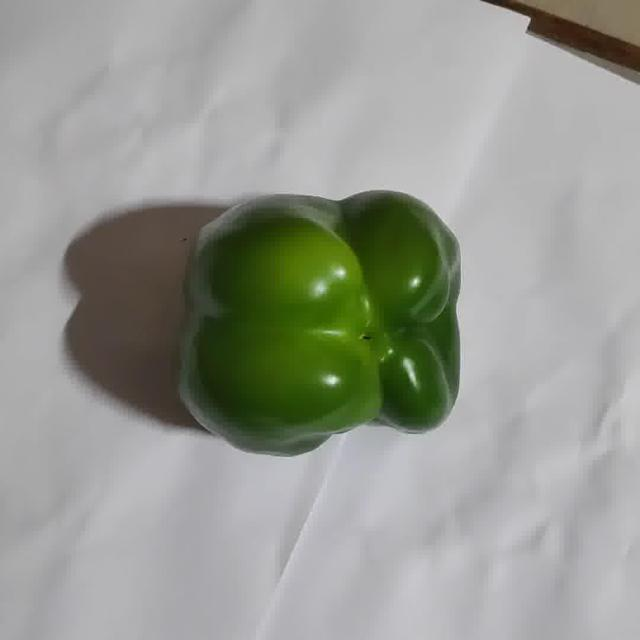Bell Pepper: (179, 190, 460, 456)
